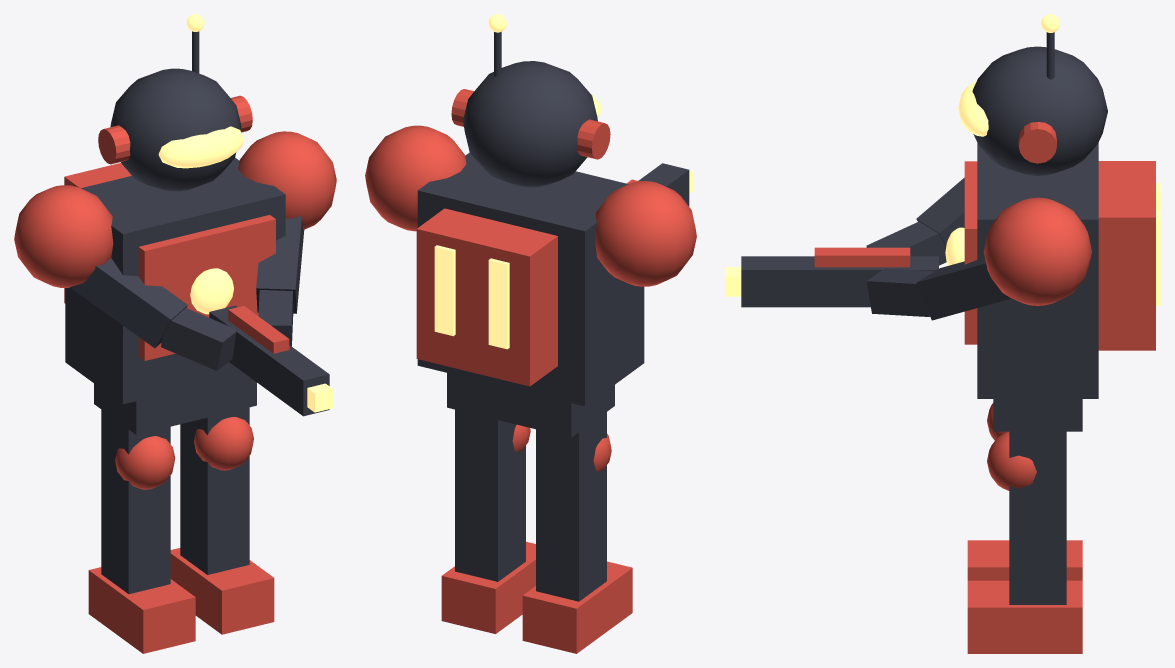
The model's file is OrbitRush_Enemy.fbx.
3 renders of one model, left to right at view 1: azimuth 30°, elevation 25°; view 2: azimuth 150°, elevation 25°; view 3: azimuth 270°, elevation 25°, orthographic. The views are drawn at different scales.
Parts seen in each view (by area): view 1: OrbitRush_Enemy_M_Enemy_Dark, OrbitRush_Enemy_M_Enemy_Red, OrbitRush_Enemy_M_Enemy_Glow; view 2: OrbitRush_Enemy_M_Enemy_Dark, OrbitRush_Enemy_M_Enemy_Red, OrbitRush_Enemy_M_Enemy_Glow; view 3: OrbitRush_Enemy_M_Enemy_Dark, OrbitRush_Enemy_M_Enemy_Red, OrbitRush_Enemy_M_Enemy_Glow.
Boxes of the visible parts, left/top/right/bottom form: OrbitRush_Enemy_M_Enemy_Dark: left=65, top=31, right=329, bottom=593; OrbitRush_Enemy_M_Enemy_Red: left=14, top=95, right=336, bottom=653; OrbitRush_Enemy_M_Enemy_Glow: left=158, top=14, right=333, bottom=412; OrbitRush_Enemy_M_Enemy_Dark: left=417, top=31, right=689, bottom=601; OrbitRush_Enemy_M_Enemy_Red: left=365, top=89, right=696, bottom=653; OrbitRush_Enemy_M_Enemy_Glow: left=434, top=14, right=693, bottom=349; OrbitRush_Enemy_M_Enemy_Dark: left=741, top=32, right=1107, bottom=604; OrbitRush_Enemy_M_Enemy_Red: left=814, top=122, right=1155, bottom=653; OrbitRush_Enemy_M_Enemy_Glow: left=725, top=14, right=1160, bottom=305.
Bounding box in the file's own units: 1.18 × 2.14 × 1.37.
